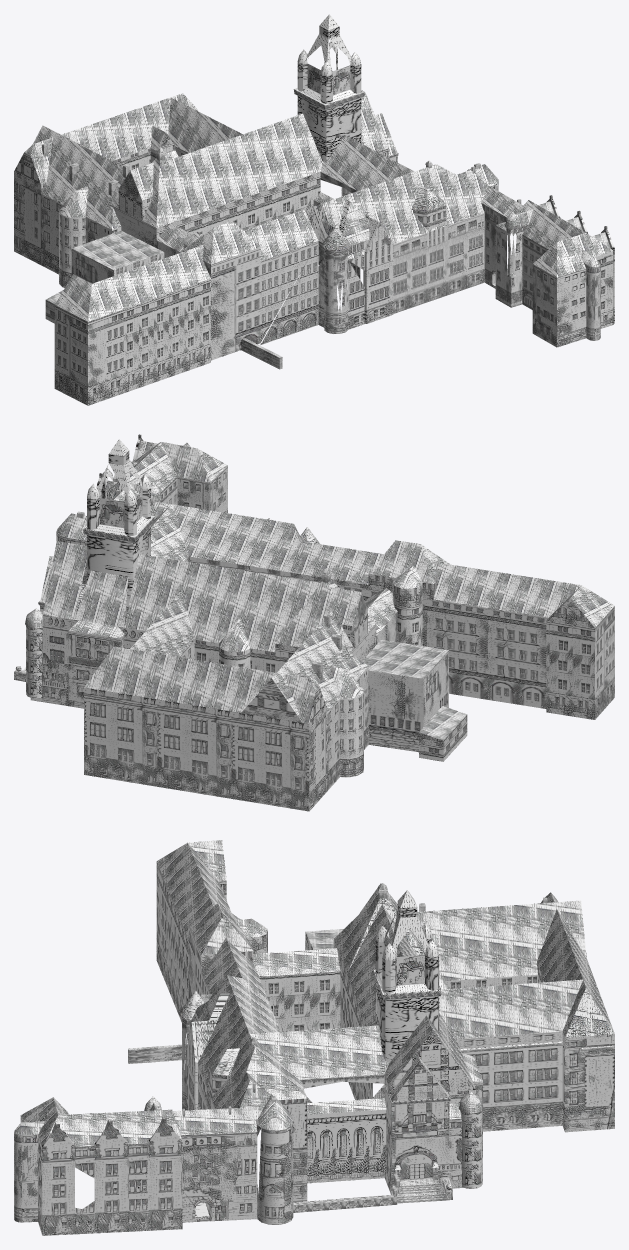
The model's file is 1Georg-Schumann-Bau.gltf.
3 views of the same model, one above another, from view 1: azimuth 30°, elevation 25°; view 2: azimuth 150°, elevation 25°; view 3: azimuth 270°, elevation 25° (orthographic). The views are drawn at different scales.
Visible parts, largest first — view 1: Dach.1; view 2: Dach.1; view 3: Dach.1.
Part boxes in pixels (box(x1,y1,x2,y2)): Dach.1: box(14, 14, 614, 405); Dach.1: box(14, 434, 614, 811); Dach.1: box(14, 840, 614, 1235).
Size of the model in its own units: 126 by 56.88 by 114.
50 materials, 50 textured.
